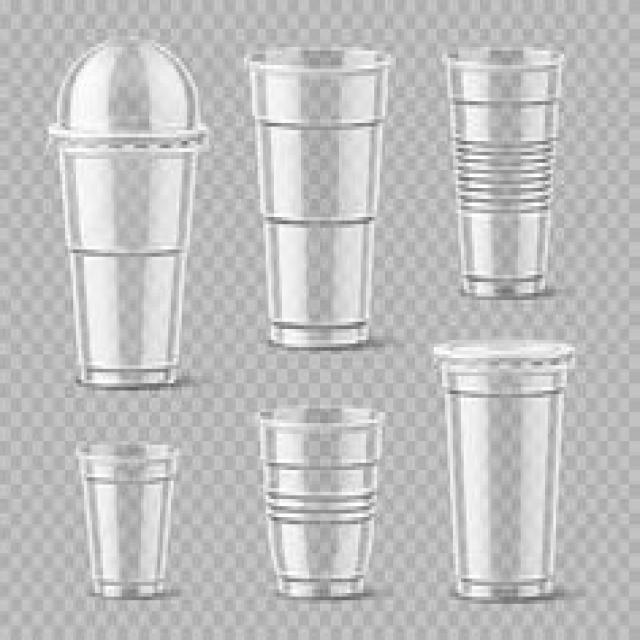bottle: (249, 47, 392, 348), (60, 147, 196, 387), (448, 48, 564, 297), (445, 392, 564, 599), (260, 407, 384, 598), (76, 443, 178, 598)
